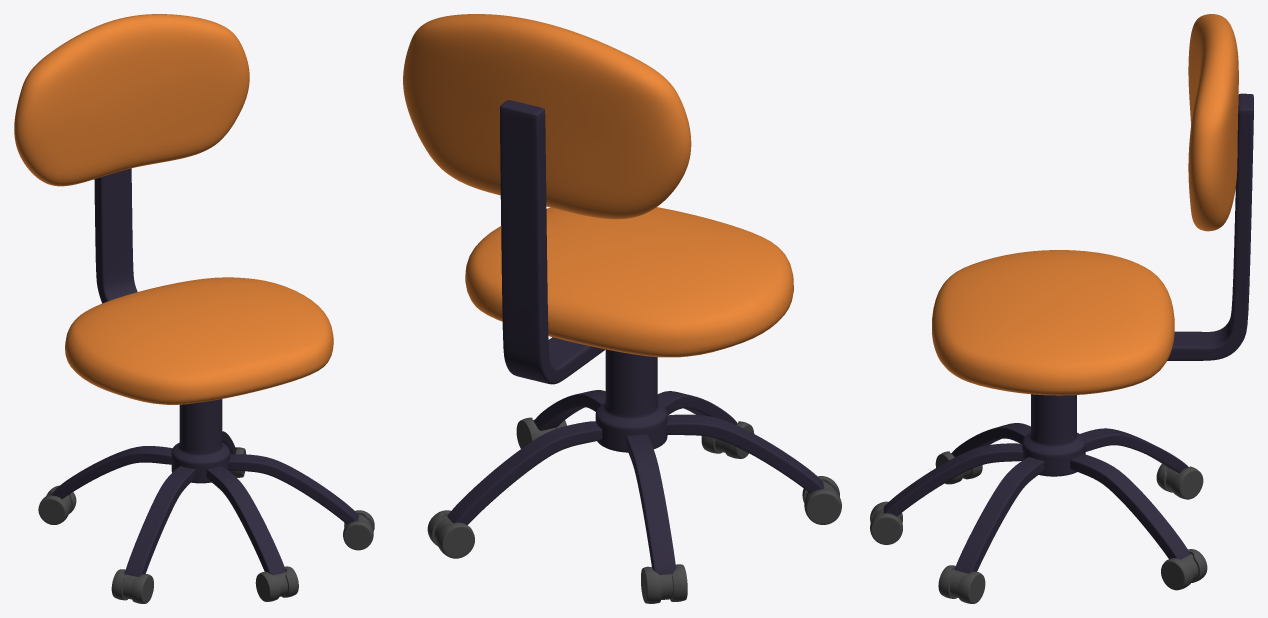
Rendered from chair.glb.
3 views of the same model, side by side, from view 1: azimuth 30°, elevation 25°; view 2: azimuth 150°, elevation 25°; view 3: azimuth 270°, elevation 25° (orthographic). The views are drawn at different scales.
Parts seen in each view (by area): view 1: Chair Wheels geo_Seat_0, Chair Wheels geo_Chair Part_0, Chair Wheels geo_Wheel_0; view 2: Chair Wheels geo_Seat_0, Chair Wheels geo_Chair Part_0, Chair Wheels geo_Wheel_0; view 3: Chair Wheels geo_Seat_0, Chair Wheels geo_Chair Part_0, Chair Wheels geo_Wheel_0.
Part boxes in pixels (<box>): Chair Wheels geo_Seat_0: <box>14,14,333,404</box>; Chair Wheels geo_Chair Part_0: <box>51,168,358,576</box>; Chair Wheels geo_Wheel_0: <box>38,447,374,603</box>; Chair Wheels geo_Seat_0: <box>403,14,793,357</box>; Chair Wheels geo_Chair Part_0: <box>447,100,824,574</box>; Chair Wheels geo_Wheel_0: <box>427,417,841,603</box>; Chair Wheels geo_Seat_0: <box>932,14,1238,395</box>; Chair Wheels geo_Chair Part_0: <box>883,93,1253,573</box>; Chair Wheels geo_Wheel_0: <box>870,451,1207,603</box>.
Size of the model in its own units: 0.6181 by 1.04 by 0.7221.
Materials: 3 (3 with a texture image).
